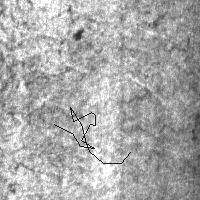crazing: (10, 100, 85, 188), (112, 89, 198, 143), (54, 107, 130, 163)
